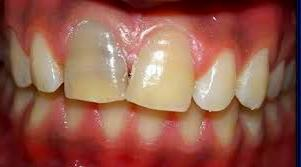Calculus: (124, 27, 196, 114)
Discoloration: (60, 18, 130, 107)
